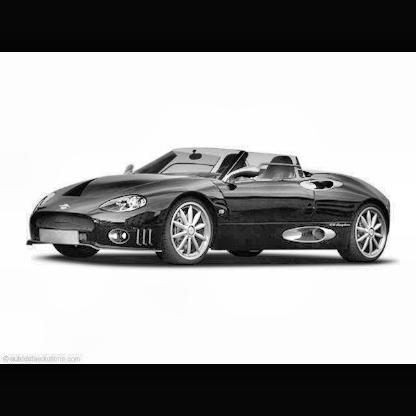Spyker C8 Convertible 2009: (22, 145, 394, 269)
